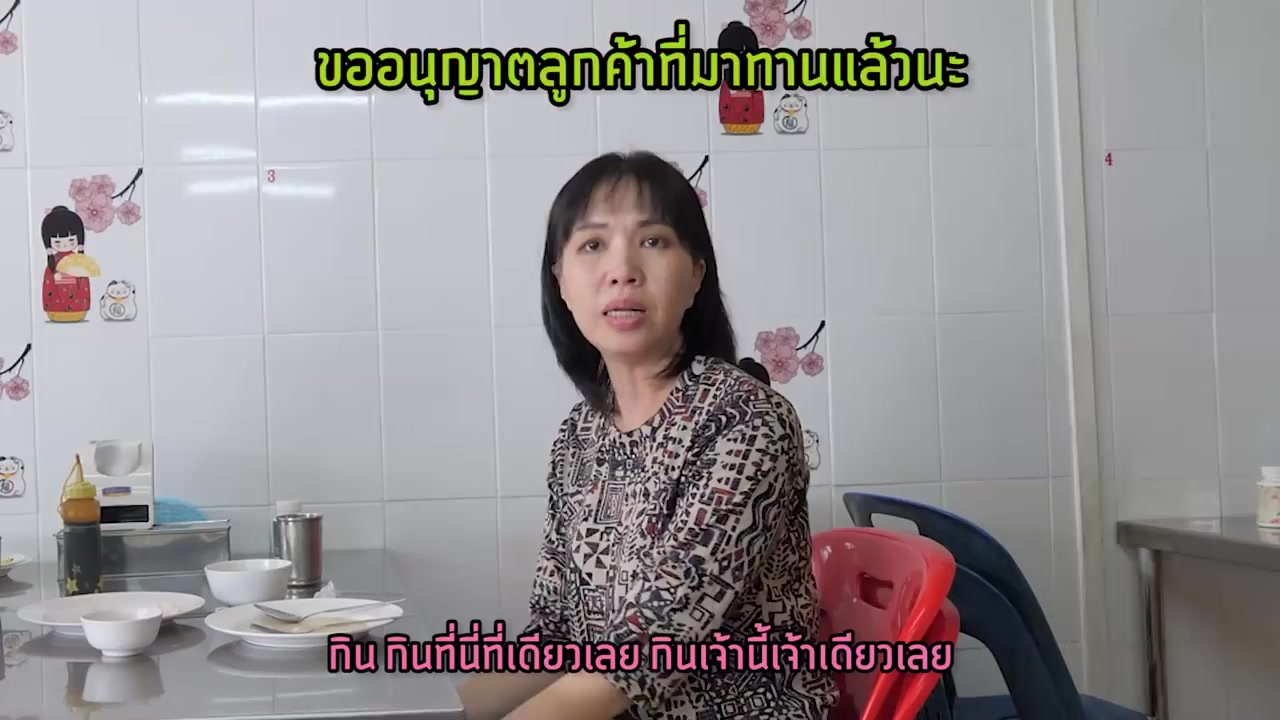text-label: (306, 16, 976, 113), (326, 616, 953, 674)
